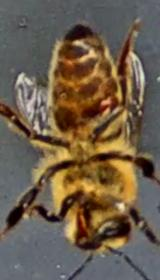varroa_mite: (88, 88, 118, 122)
